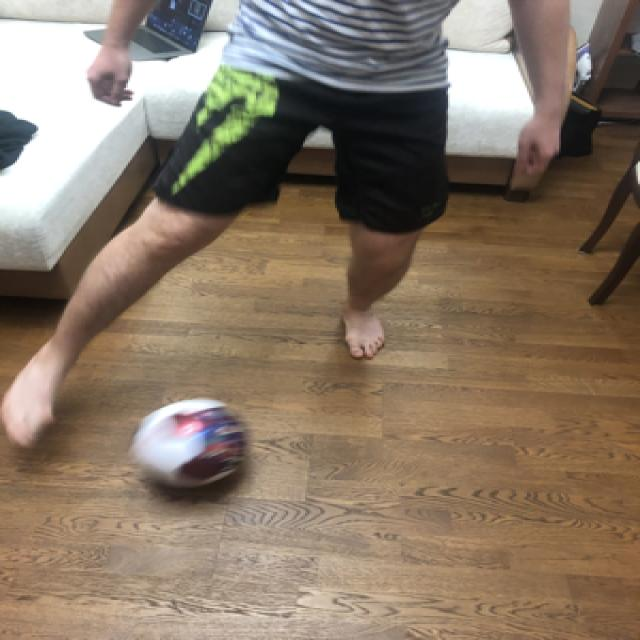soccer_ball: (128, 395, 247, 488)
